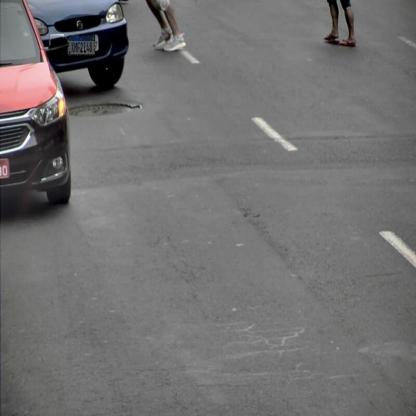PlacaM: (69, 36, 95, 56)
